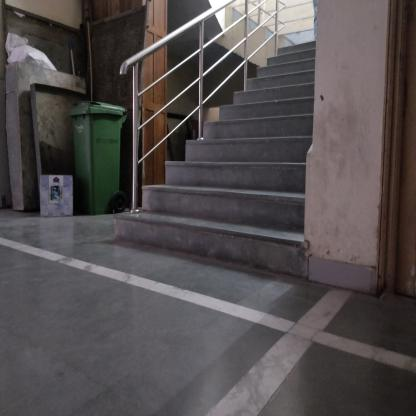stairs: (146, 160, 304, 278)
